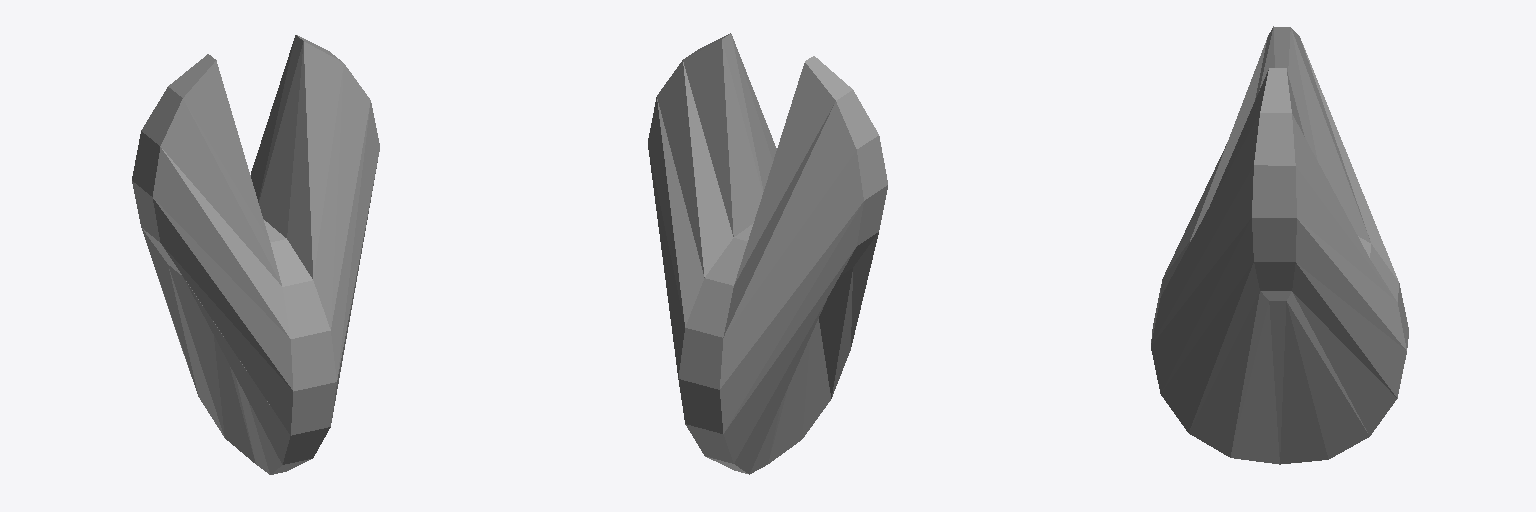
File: ship8.obj
3 renders of one model, left to right at view 1: azimuth 30°, elevation 25°; view 2: azimuth 150°, elevation 25°; view 3: azimuth 270°, elevation 25°, orthographic.
Visible parts, largest first — view 1: ship8_sphere.005; view 2: ship8_sphere.005; view 3: ship8_sphere.005.
Boxes of the visible parts, box(x1,y1,x2,y2) form: ship8_sphere.005: box(132, 35, 379, 474); ship8_sphere.005: box(648, 33, 887, 474); ship8_sphere.005: box(1151, 26, 1408, 464).
Bounding box in the file's own units: 1.12 × 1.99 × 1.12.